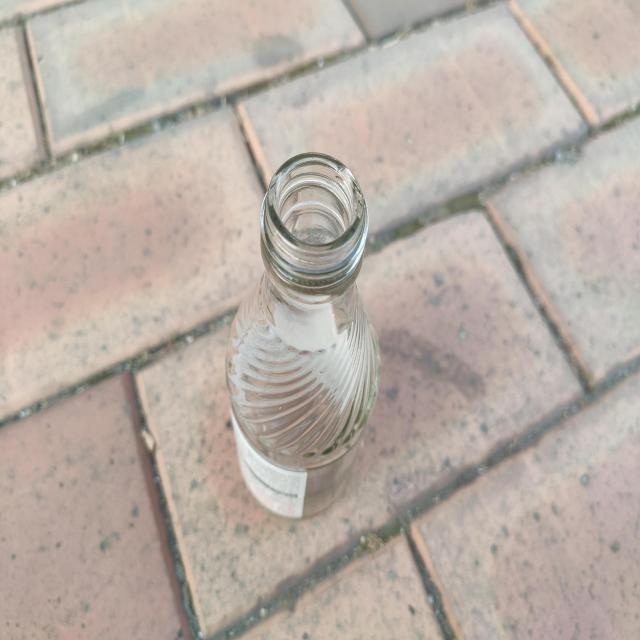glass: (226, 152, 380, 518)
